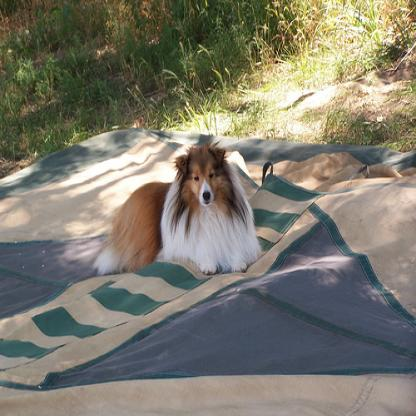Shetland_sheepdog: (92, 138, 262, 282)
